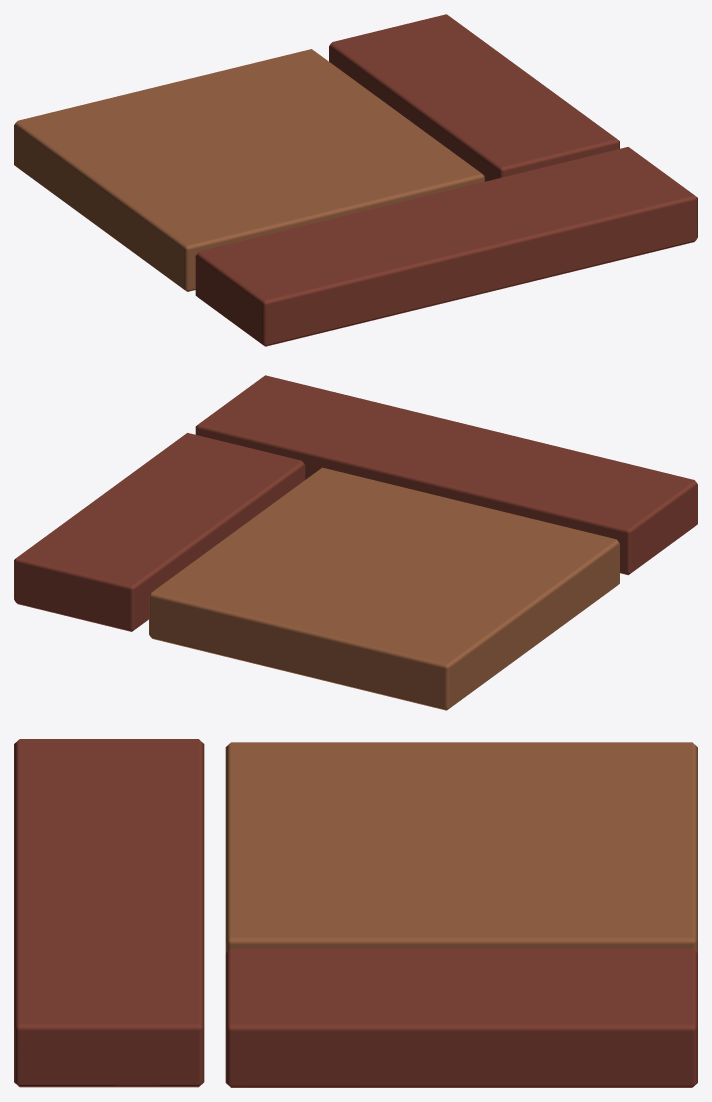
Rendered from stone-halls-tile-c.561001d9.glb.
3 renders of one model, top to bottom at view 1: azimuth 30°, elevation 25°; view 2: azimuth 150°, elevation 25°; view 3: azimuth 270°, elevation 25°, orthographic. The views are drawn at different scales.
Parts seen in each view (by area): view 1: body; view 2: body; view 3: body.
Boxes of the visible parts, bbox=[...] form: body: bbox=[14, 14, 697, 346]; body: bbox=[14, 375, 697, 710]; body: bbox=[14, 739, 697, 1087].
Size of the model in its own units: 0.97 by 0.105 by 0.97.
